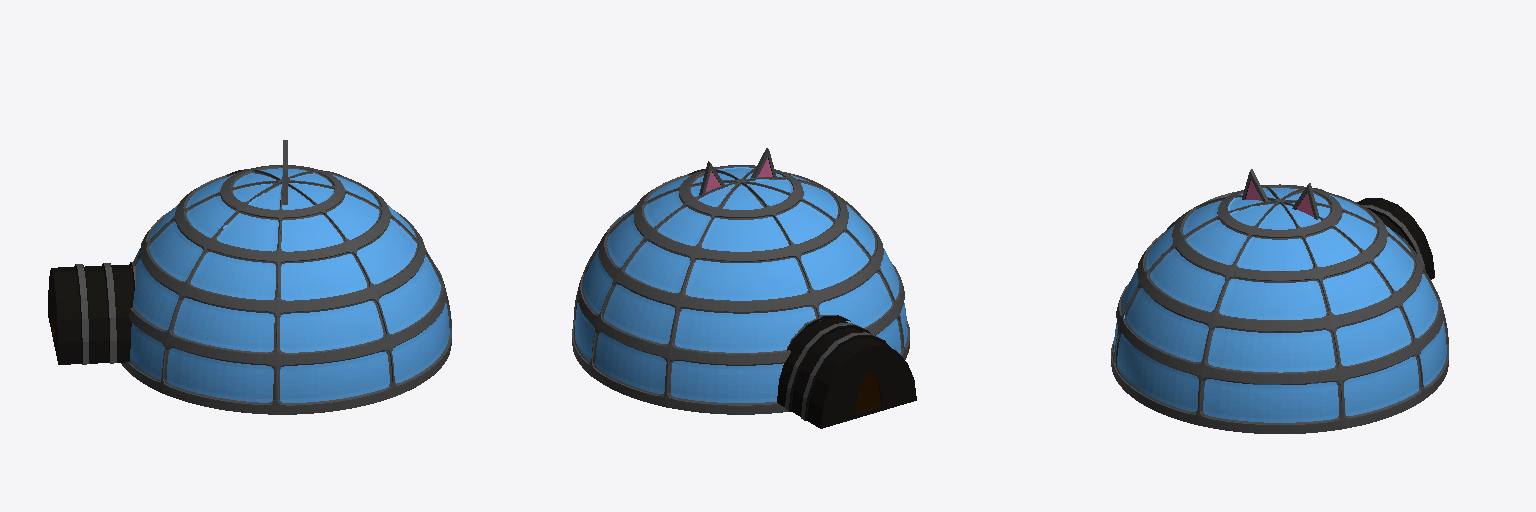
The model's file is spacebuilding1.obj.
The picture shows the model from 3 angles: view 1: azimuth 30°, elevation 25°; view 2: azimuth 150°, elevation 25°; view 3: azimuth 270°, elevation 25°; orthographic projection.
Visible parts, largest first — view 1: pSphere4; view 2: pSphere4; view 3: pSphere4.
Boxes of the visible parts, x1,y1,x2,y2 form: pSphere4: [48, 140, 451, 414]; pSphere4: [572, 148, 916, 428]; pSphere4: [1111, 169, 1448, 433].
Size of the model in its own units: 87.91 by 45.59 by 74.3.